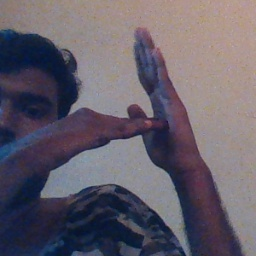Z: (80, 24, 200, 173)
